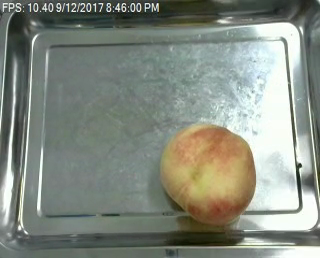Peach: (160, 122, 256, 225)
